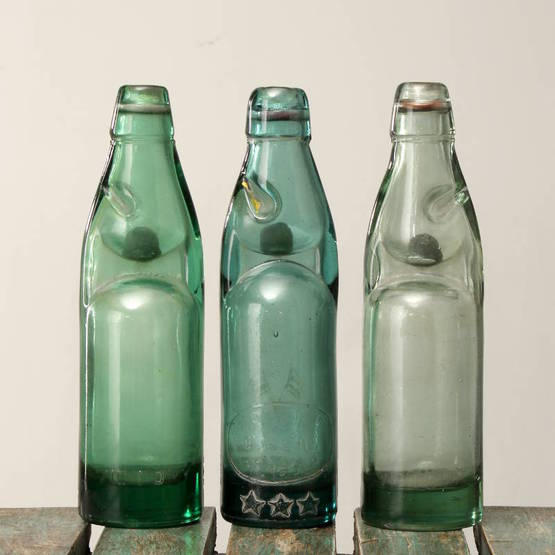Rec_Glass: (68, 79, 209, 538), (353, 71, 481, 533), (214, 80, 342, 535)
